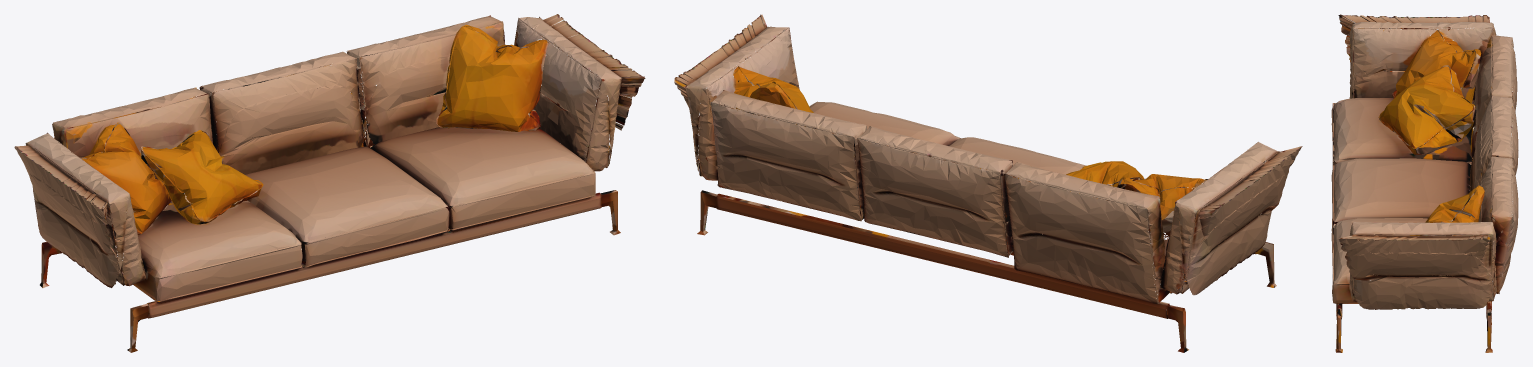
Rendered from edited_mesh.glb.
The picture shows the model from 3 angles, left to right: view 1: azimuth 30°, elevation 25°; view 2: azimuth 150°, elevation 25°; view 3: azimuth 270°, elevation 25°; orthographic projection. The views are drawn at different scales.
Parts seen in each view (by area): view 1: solid_001_wire; view 2: solid_001_wire; view 3: solid_001_wire.
Boxes of the visible parts, x1=… form: solid_001_wire: x1=14, y1=14, x2=645, y2=352; solid_001_wire: x1=674, y1=14, x2=1302, y2=352; solid_001_wire: x1=1331, y1=14, x2=1518, y2=352.
Bounding box in the file's own units: 2 × 0.577 × 0.7051.
1 material, 1 textured.
